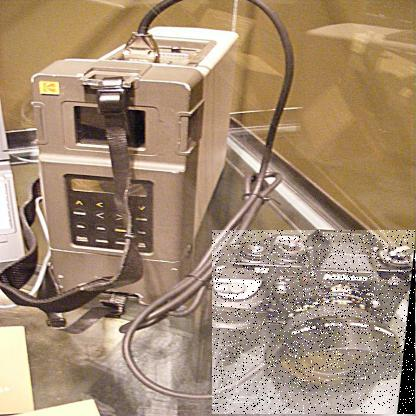Camera: (213, 231, 416, 416)
